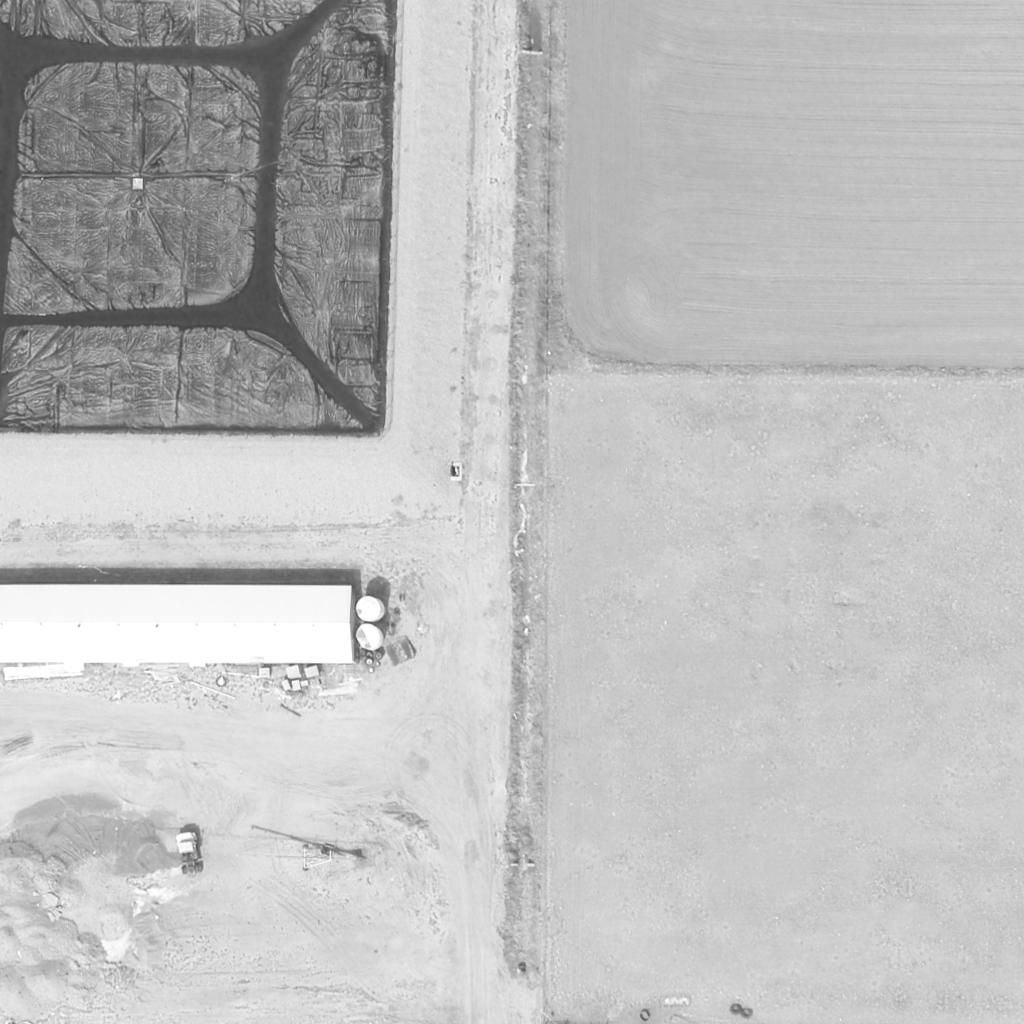vehicle: (175, 832, 205, 876)
